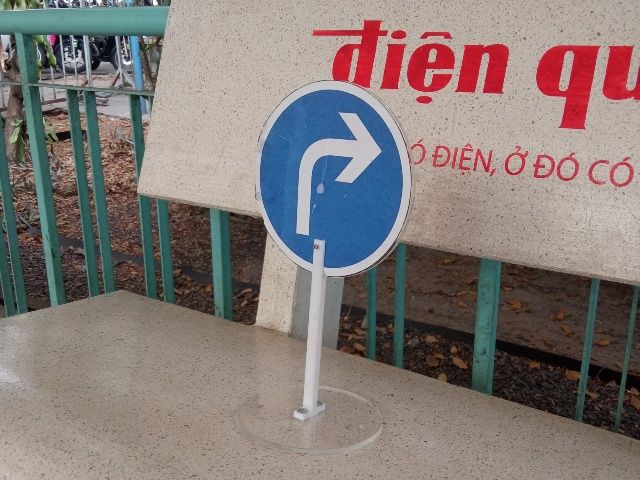Right_Sign: (256, 78, 413, 277)
